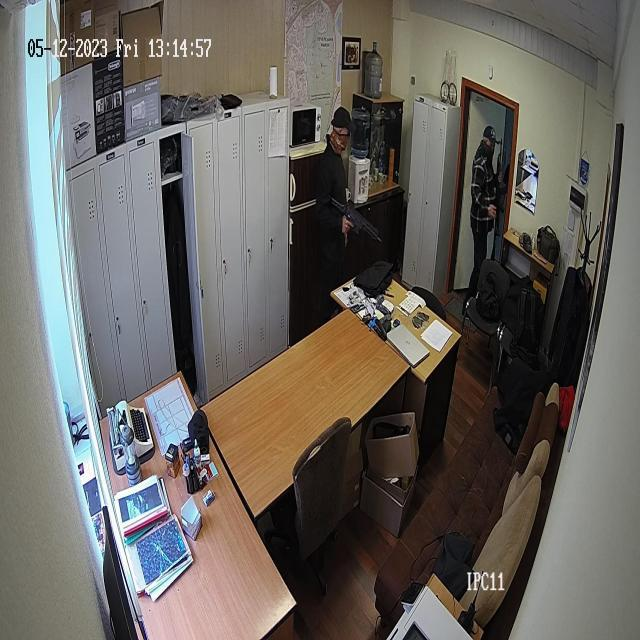pistol: (326, 186, 382, 246), (492, 138, 504, 248)
